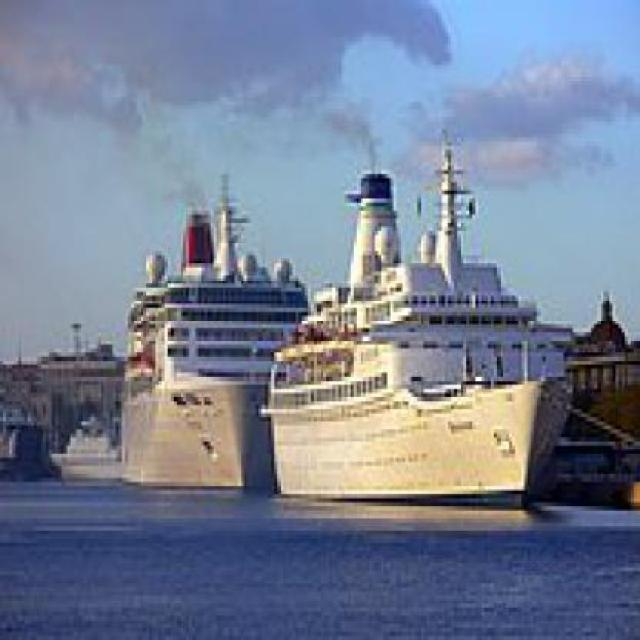cruise: (257, 114, 590, 511), (110, 151, 321, 508)
